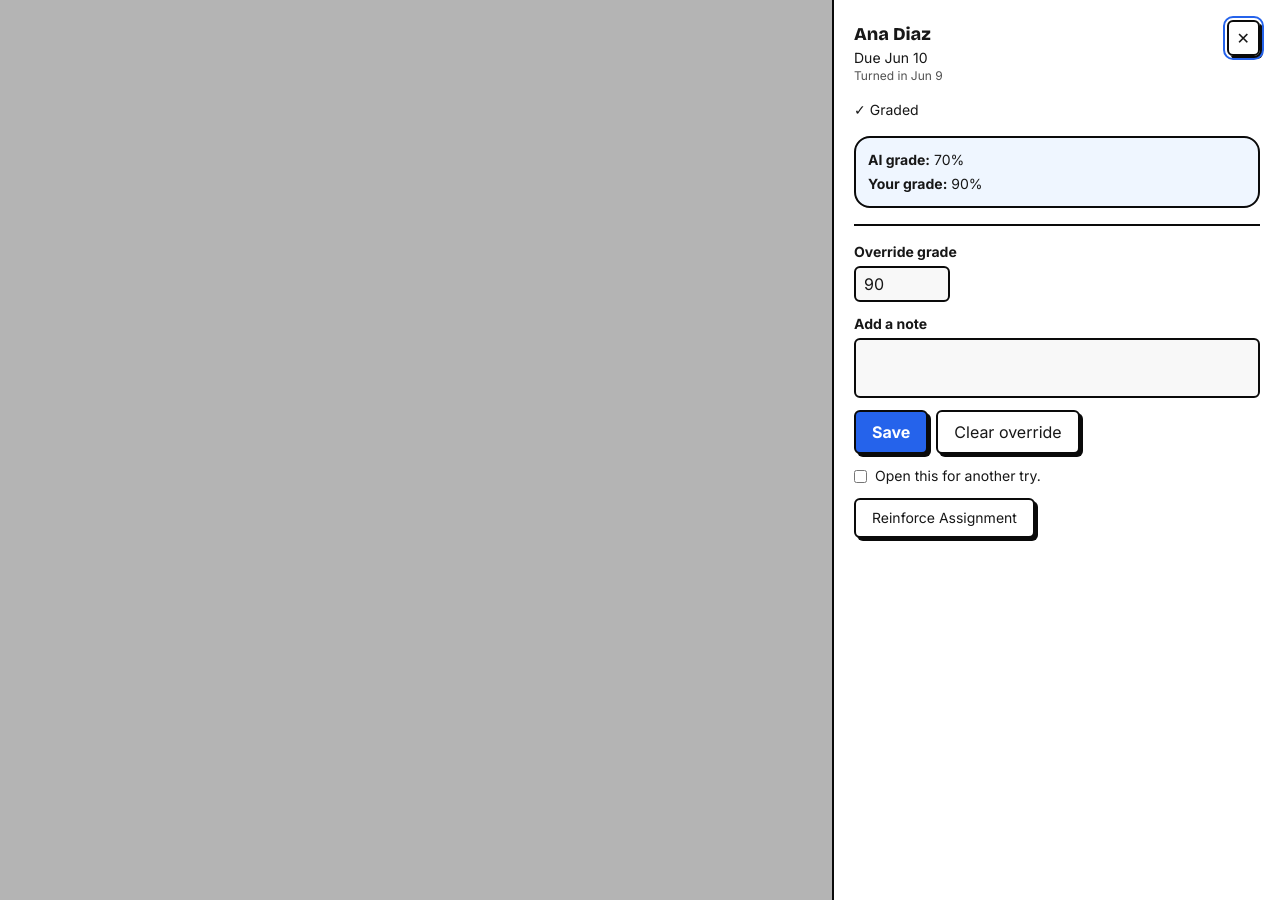
Test: GradebookDrillIn › blocks save on an out-of-range grade — shows an inline error, does NOT POST
The width and height of the screenshot is (1280, 900).
Replace the text in the number field labelled "Override grade" with "150" at (902, 284), box left=854, top=266, right=950, bottom=302
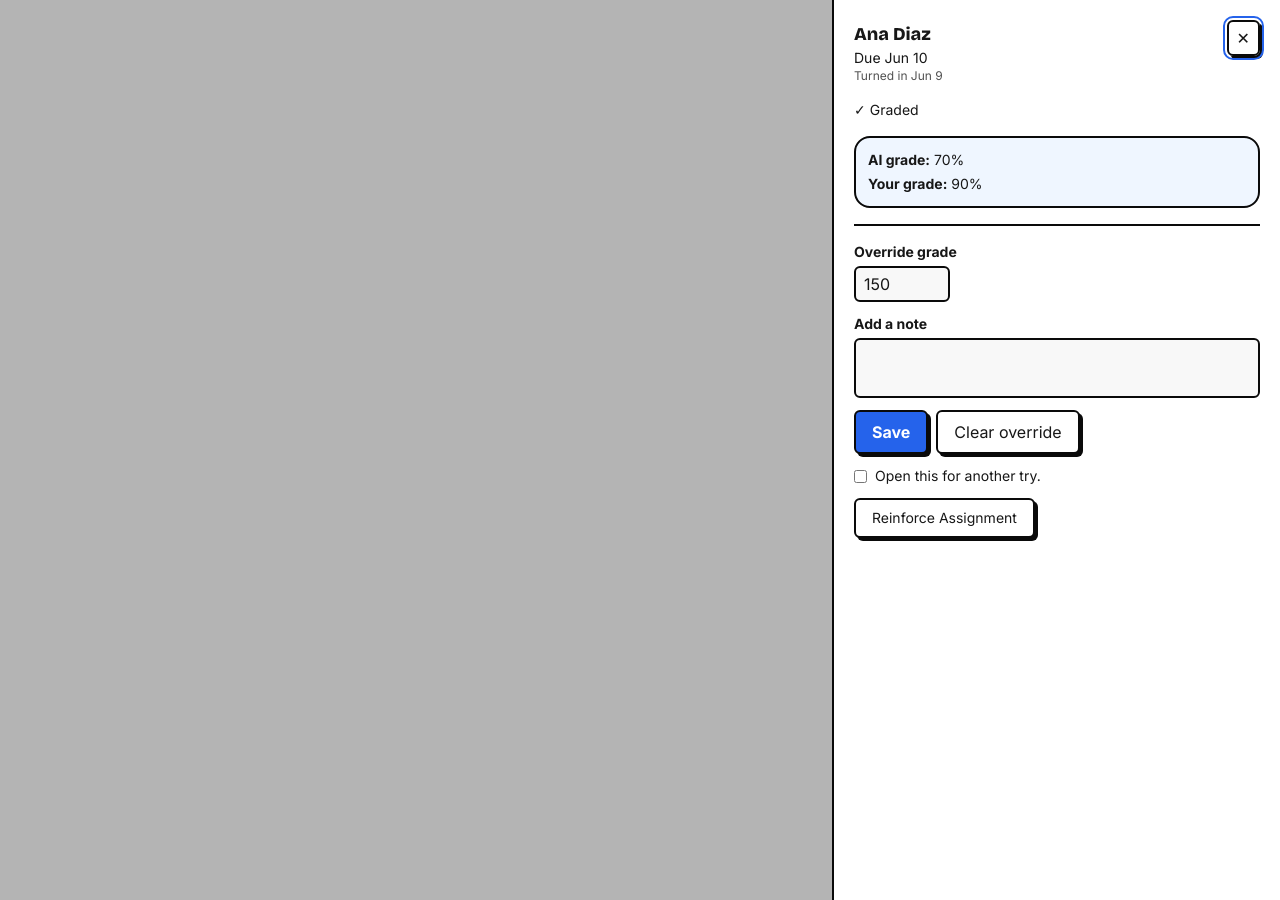
Click the button "Save".
click(891, 432)  # box left=854, top=410, right=928, bottom=454
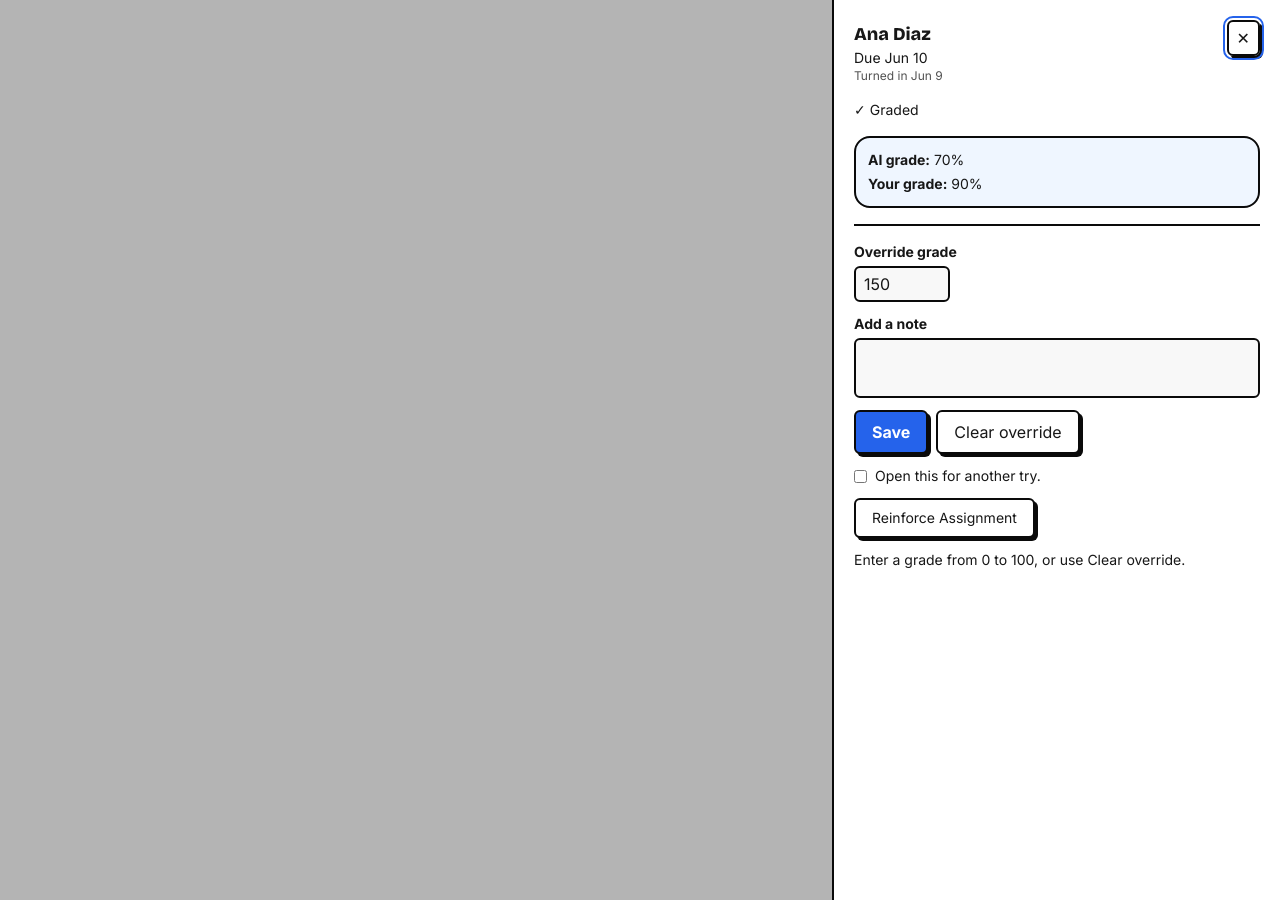
Now the message shows "grade from 0 to 100", box left=854, top=551, right=1185, bottom=568
